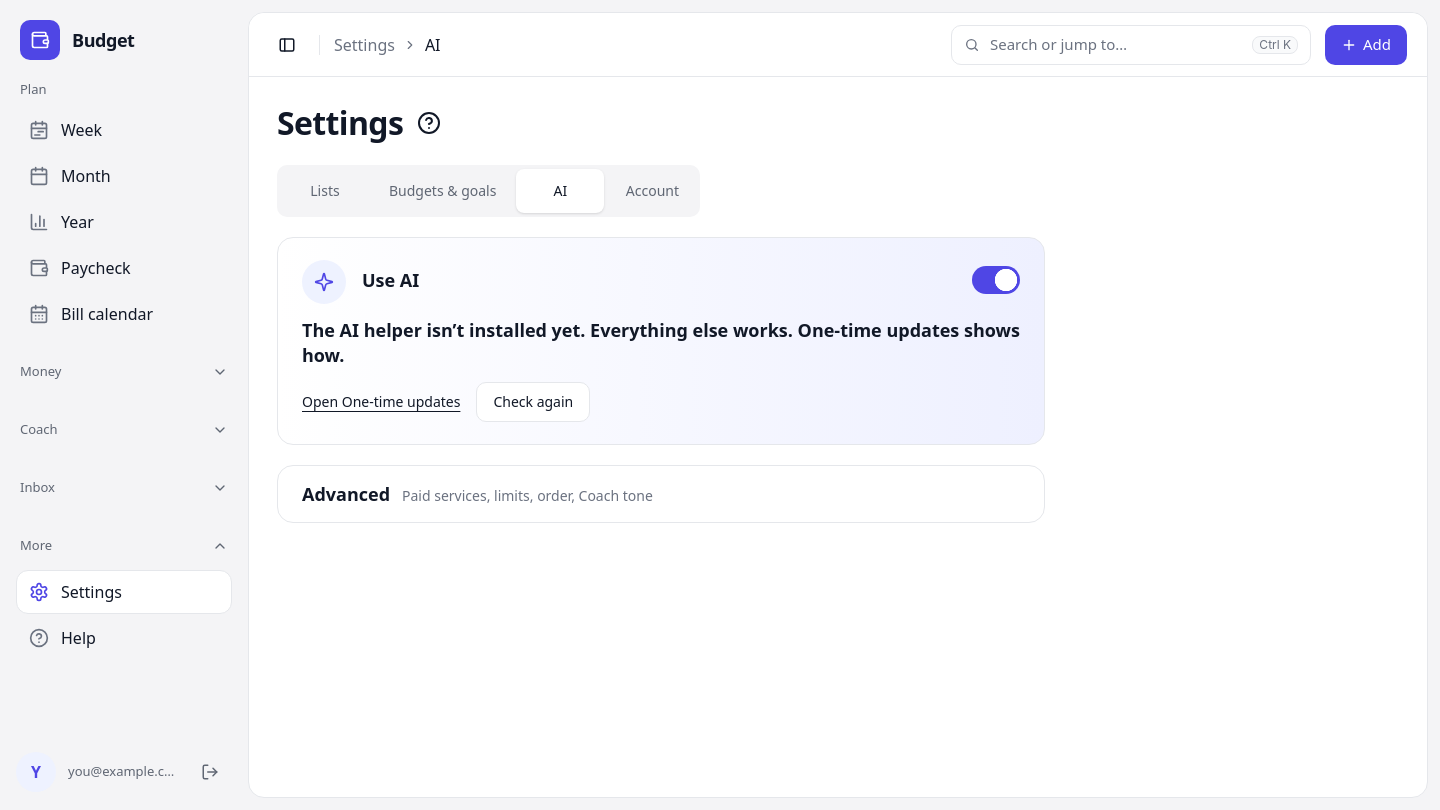
Scenario: Use AI › sits at the top, in the status card, with no hint while on, and is there with no AI helper installed (ADR 0015)
The image size is (1440, 810).
Expected: the text "The AI helper isn’t installed yet" is shown, [302,318,1020,367]
What coordinates should you click on to do the following:
click the switch labelled "Use AI"
I would click on:
 (996, 280)
Its box is [972,266,1020,294].
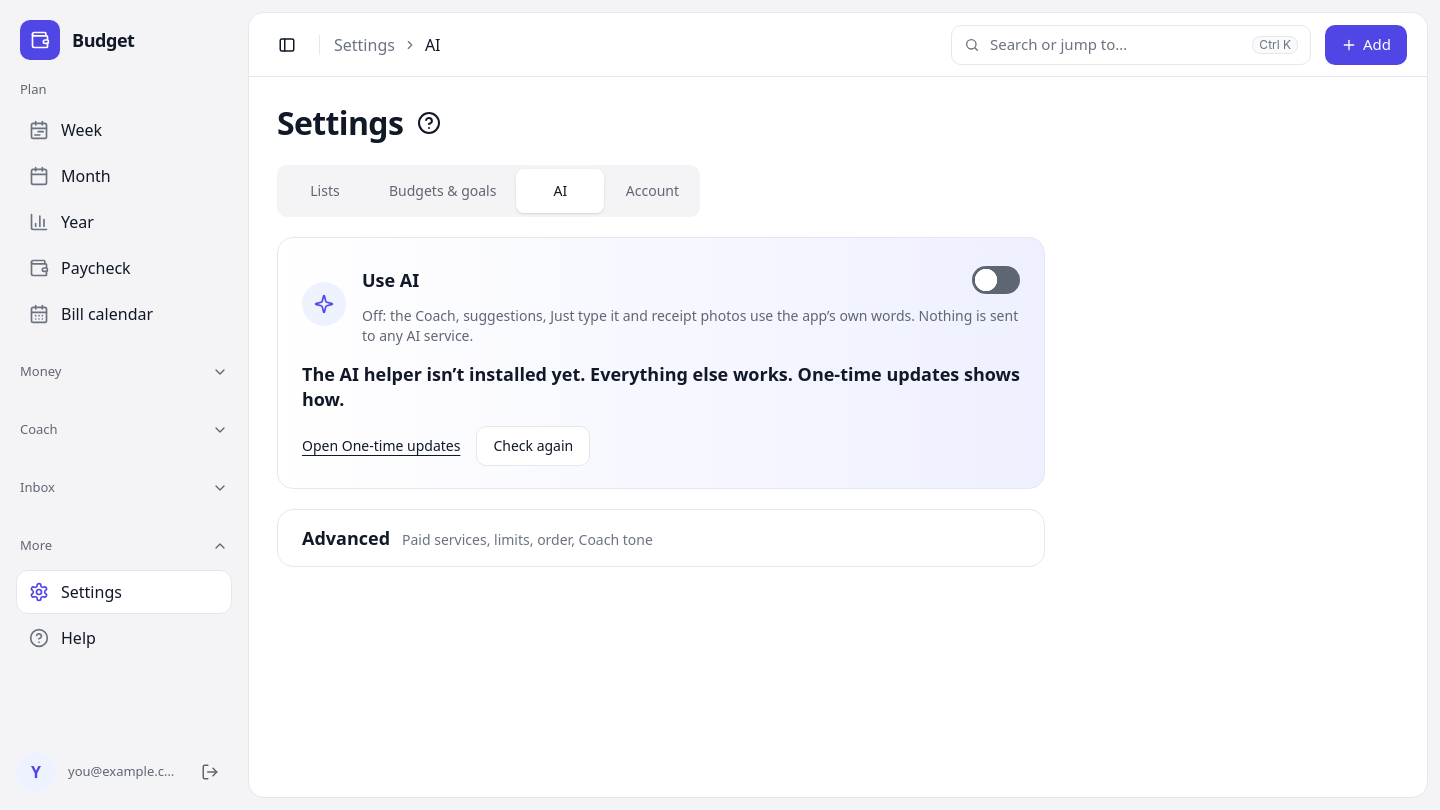
Expected: the text "Off: the Coach, suggestions" is shown, [362,306,1018,345]
